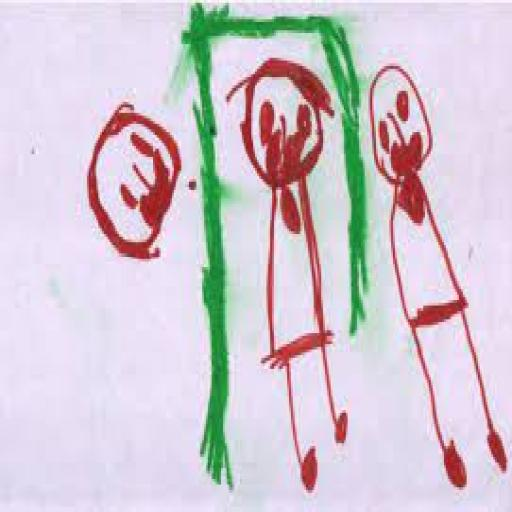person: (366, 59, 512, 511), (229, 56, 355, 503), (76, 96, 202, 280)
